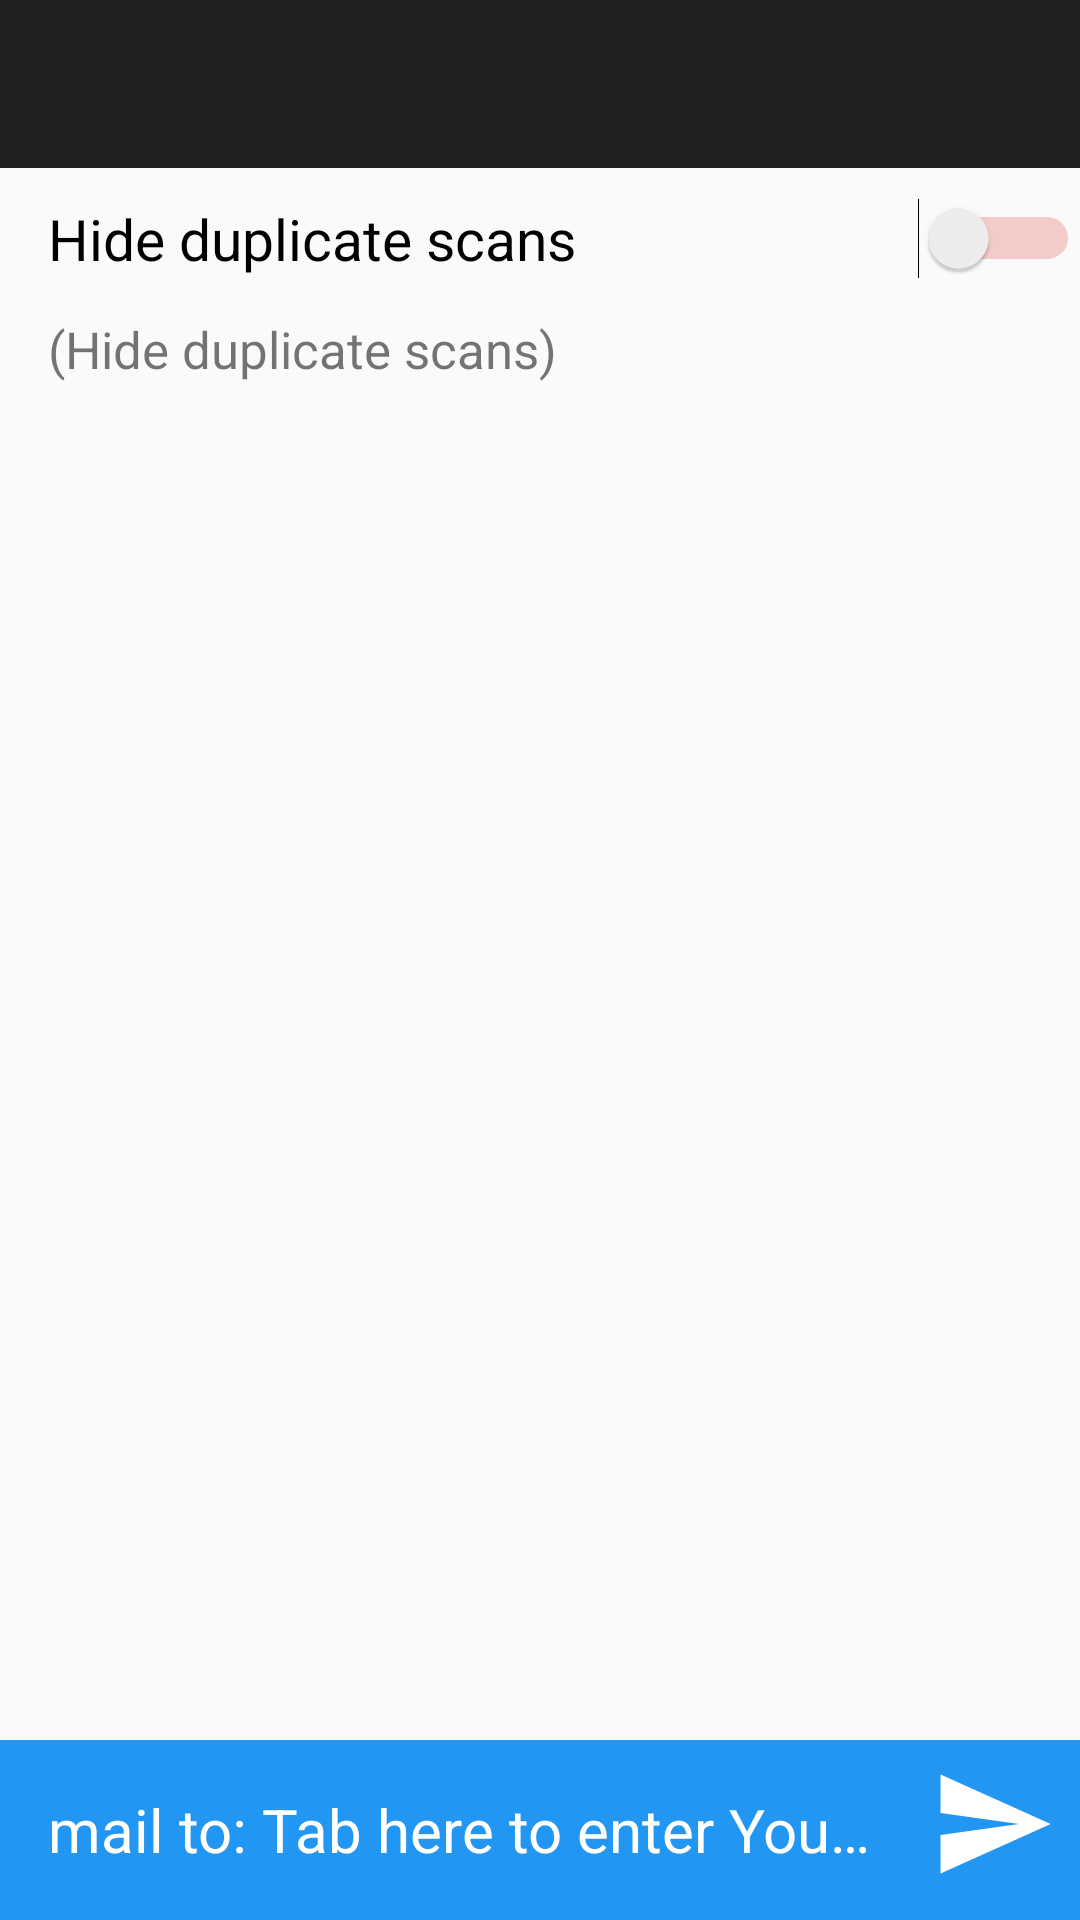

Icon click points for this 1080px x 1920px phone screenshot, format point (x, y):
send mail: point (995, 1824)
